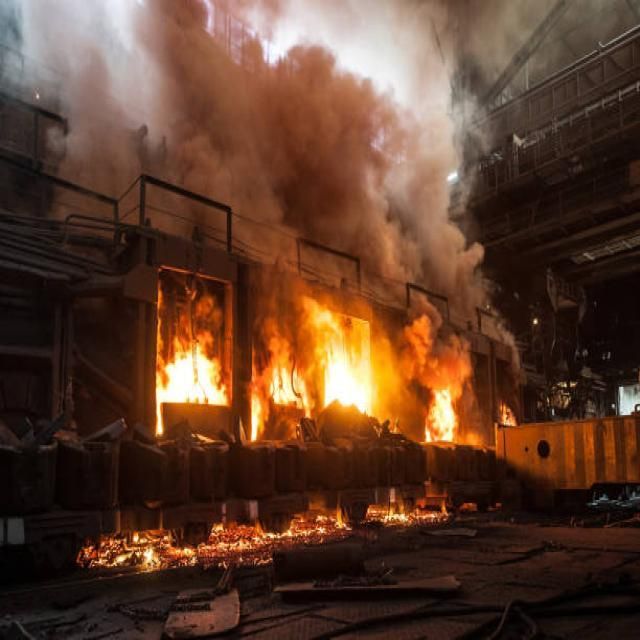Fire: (254, 278, 434, 466), (149, 260, 234, 460), (428, 395, 461, 463)
Smoke: (66, 8, 514, 440)
